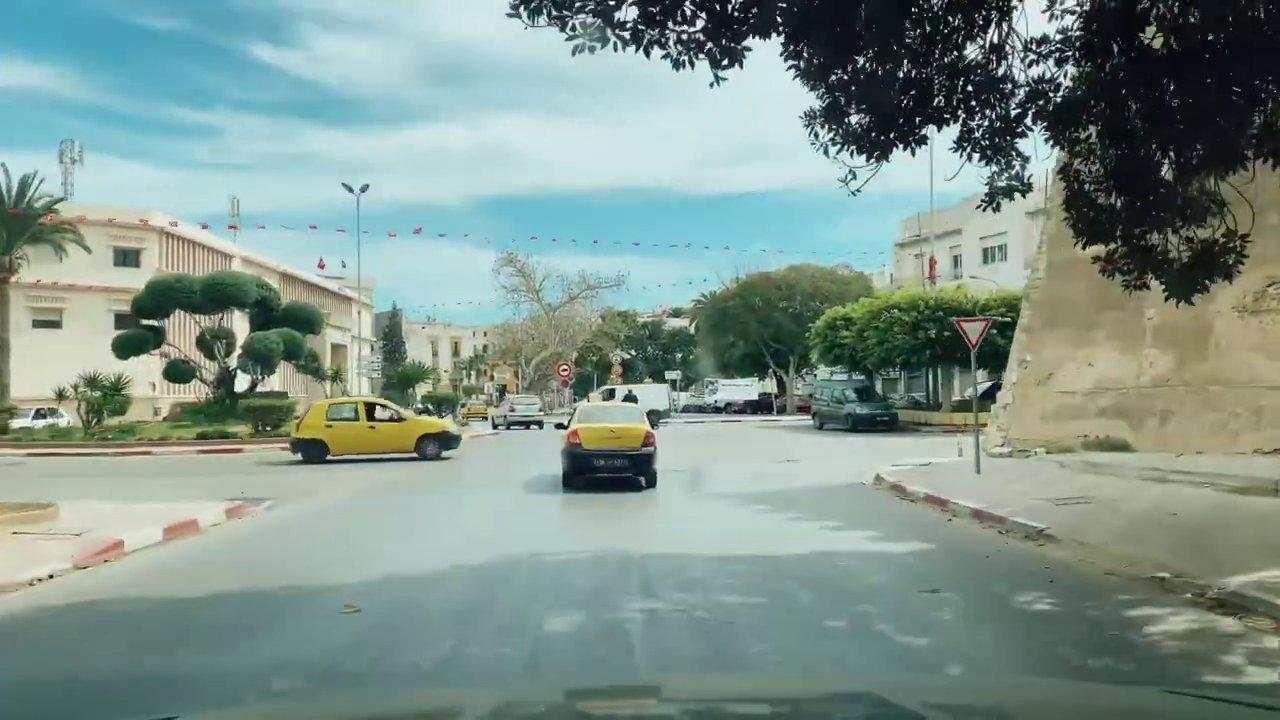give way: (949, 311, 994, 354)
